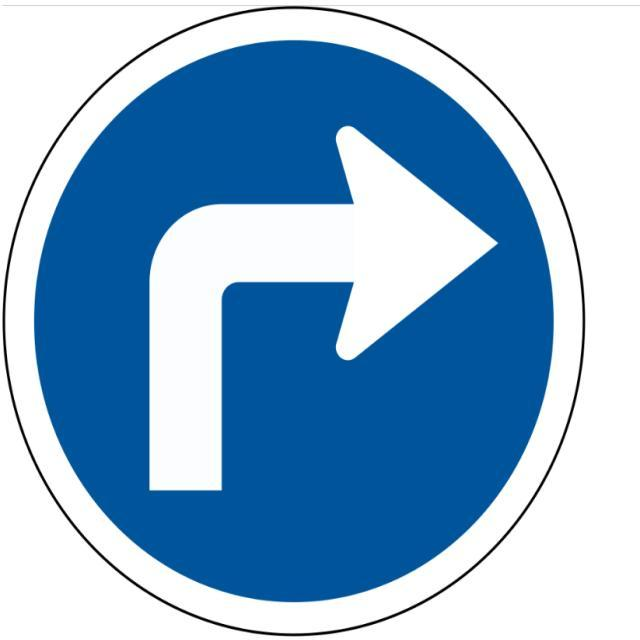compulsary turn right ahead: (37, 45, 553, 602)
